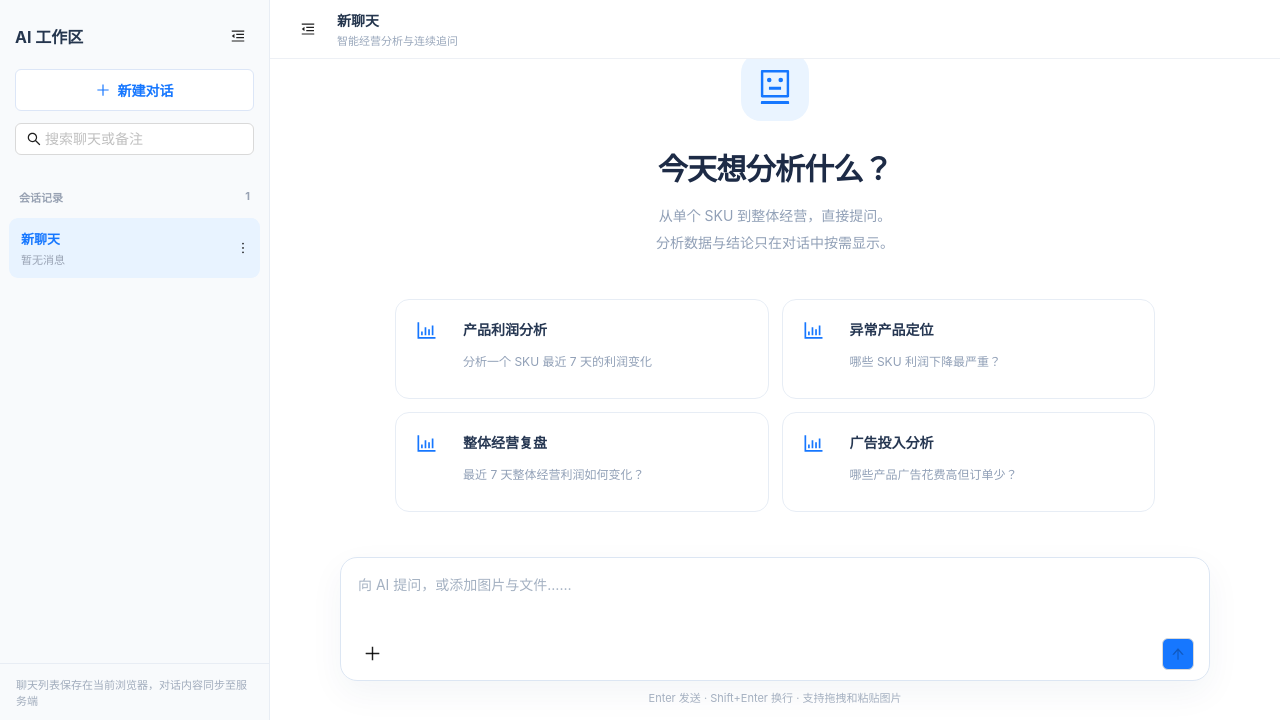
AI assistant V7 inside existing MainLayout › sends text to the backend without inventing sales metrics
The width and height of the screenshot is (1280, 720).
(page scrolled)
Type "哪些 SKU 利润下降？" into the text box named "输入问题". click: {"x": 775, "y": 605}
box: top-left (356, 572), bottom-right (1194, 638)
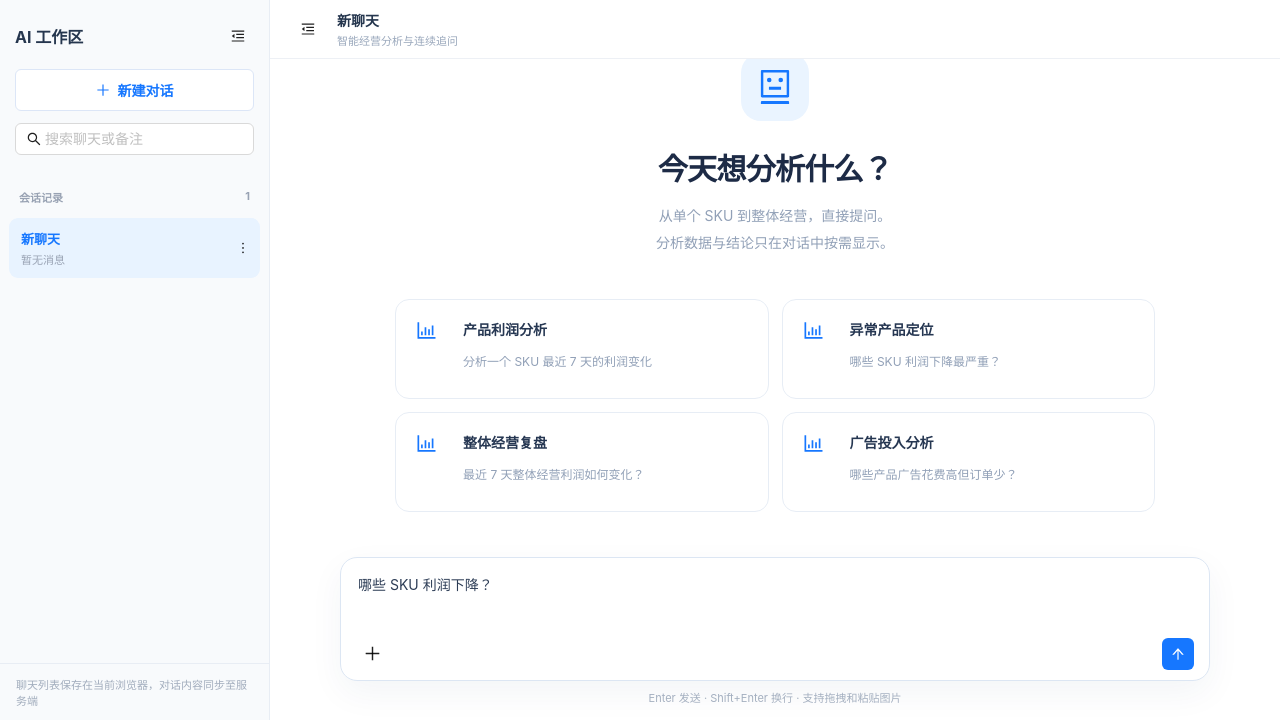
Click the button named "发送消息". click: {"x": 1178, "y": 654}
box: top-left (1162, 638), bottom-right (1194, 670)
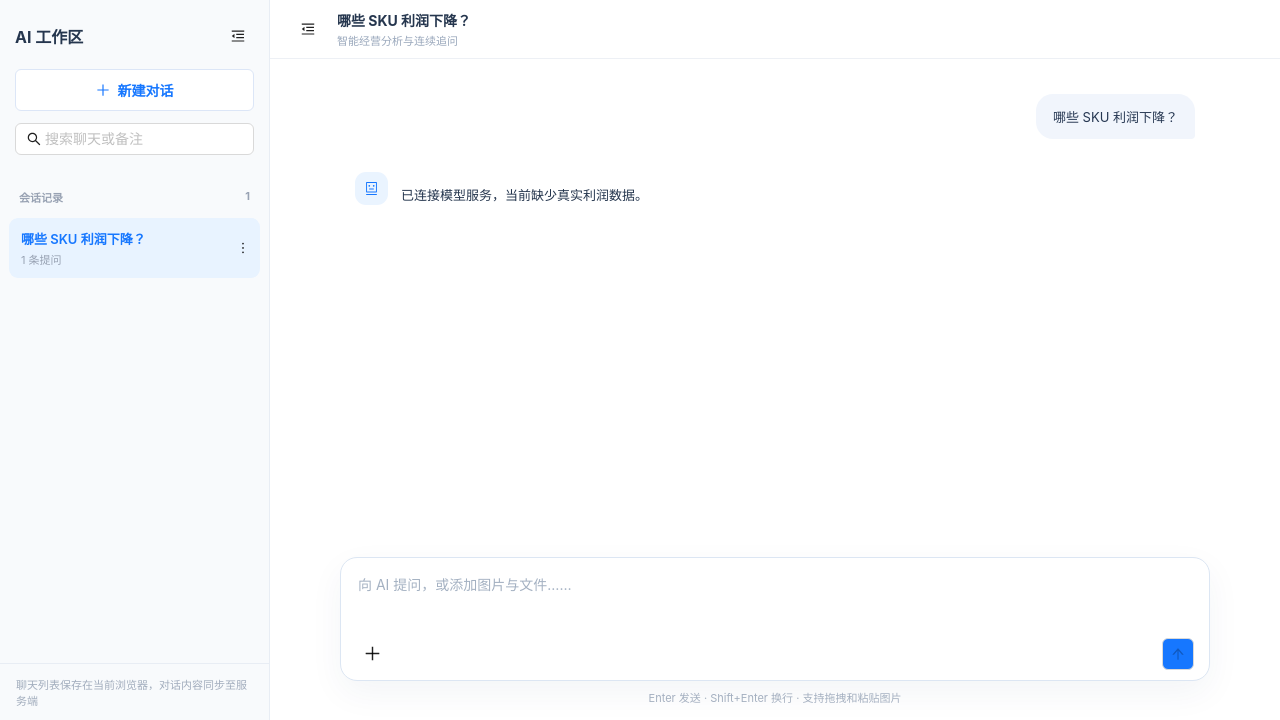
Now the text "已连接模型服务，当前缺少真实利润数据。" is shown, box top-left (401, 185), bottom-right (648, 204)
